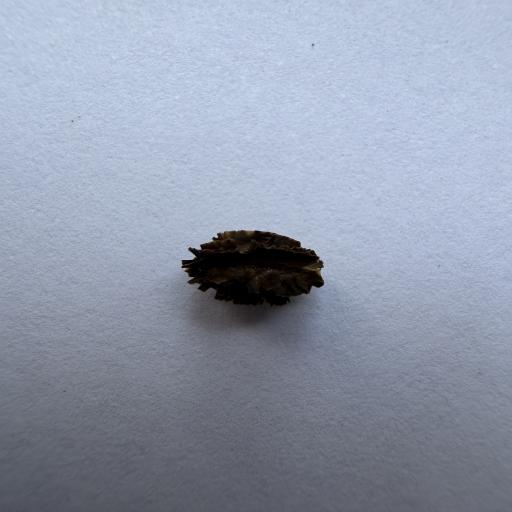papaya_seed: (152, 210, 344, 340)
